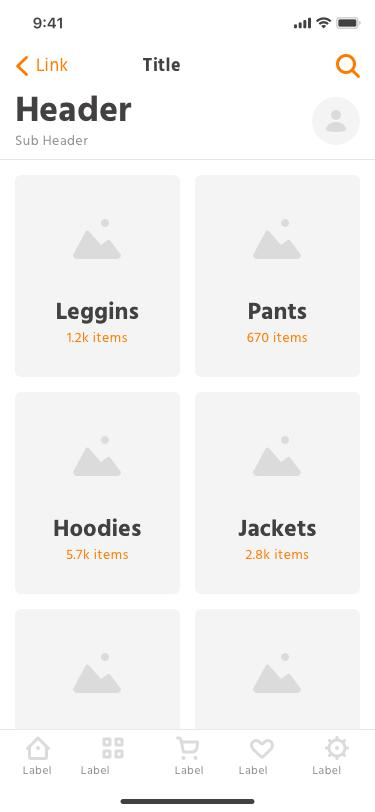Icon: (312, 97, 361, 145), (335, 54, 362, 81), (174, 735, 200, 761), (26, 736, 51, 762), (324, 735, 351, 759), (102, 736, 125, 759), (250, 737, 274, 759), (16, 55, 31, 77)
Image: (15, 392, 181, 594), (195, 392, 361, 594), (195, 175, 360, 378), (16, 175, 181, 378), (15, 609, 181, 730), (195, 608, 360, 729)
Text: (18, 96, 133, 123), (57, 301, 140, 325), (55, 518, 142, 537), (238, 519, 317, 537), (248, 303, 308, 321), (244, 547, 310, 562), (15, 135, 89, 147), (65, 548, 130, 561), (246, 331, 309, 344), (66, 332, 130, 344), (143, 57, 182, 73), (37, 58, 71, 73), (22, 764, 54, 776), (80, 764, 111, 776), (311, 764, 343, 775), (237, 765, 270, 775), (174, 765, 205, 775)
UpperTaskBar: (34, 16, 362, 30)
